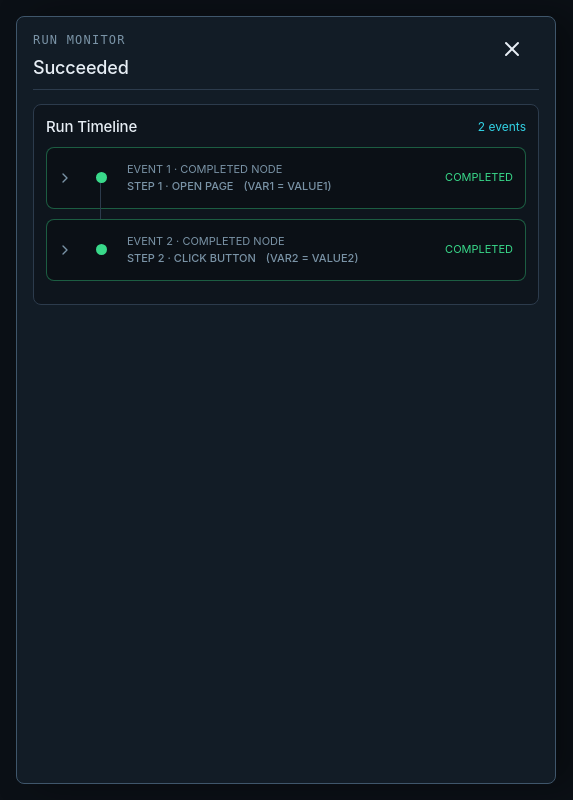
Test case: RunMonitorDrawer › correctly maps timeline items to traces when non-visual steps are present (no offset/shift)
The width and height of the screenshot is (573, 800).
Expected: the text "2 events" is shown, [478,120,526,134]
What coordinates should you click on to do the following:
click the 1st button named "Expand event details"
I would click on:
 (65, 178)
Its box is [57,170,73,186].
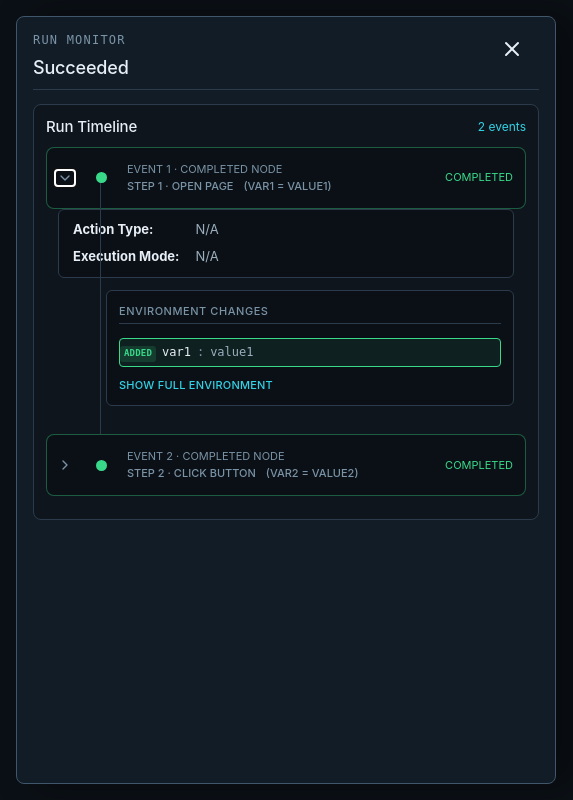
Now the text "var1" is shown, box [162,344,191,362]
Now the text "value1" is shown, box [210,344,254,362]
// Click Event 1 expand chevron again to close it
What coordinates should you click on to do the following:
click the button named "Collapse event details"
I would click on:
 (65, 178)
Its box is [57,170,73,186].
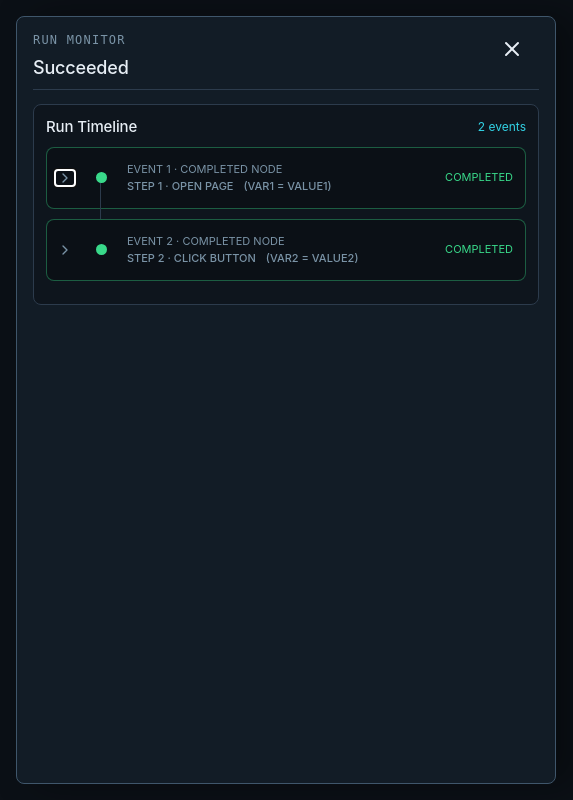
What coordinates should you click on to do the following:
click the 2nd button named "Expand event details"
I would click on:
 (65, 250)
Its box is [57,242,73,258].
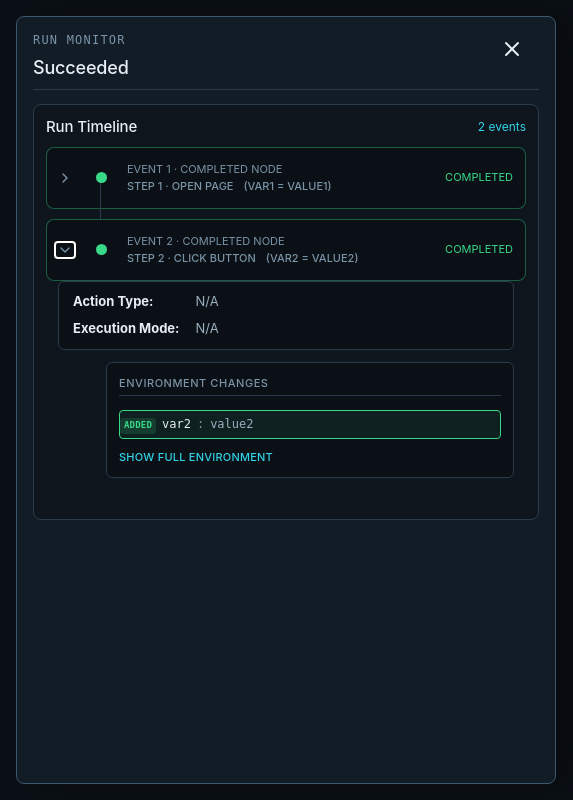
Now the text "var2" is shown, box [162,416,191,434]
Now the text "value2" is shown, box [210,416,254,434]
